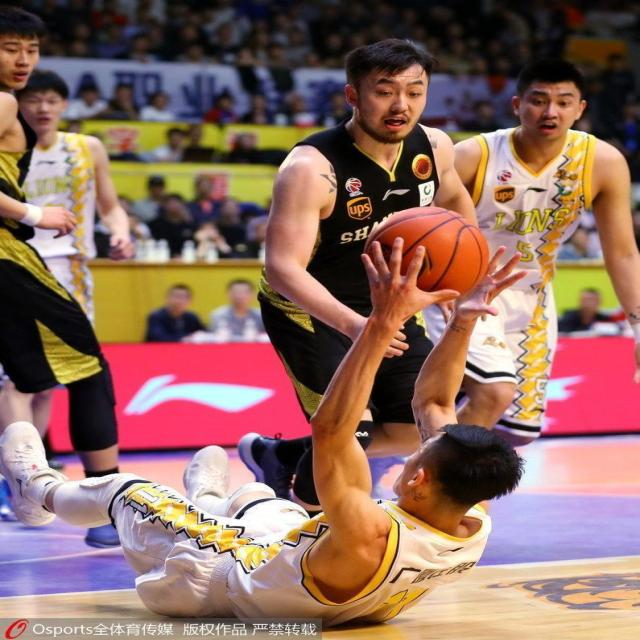fall: (0, 250, 528, 601)
nonfall: (279, 35, 478, 463), (462, 45, 640, 424), (0, 9, 82, 473)
